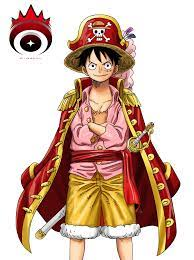luffy: (63, 13, 137, 88)
